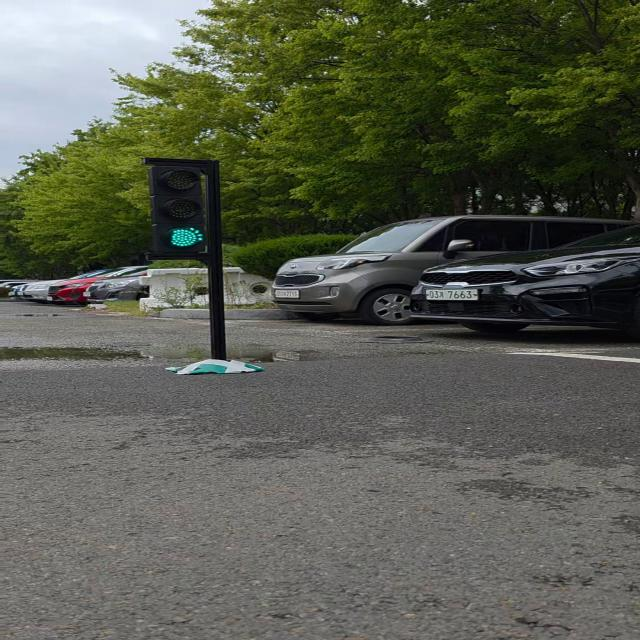green: (147, 159, 212, 263)
